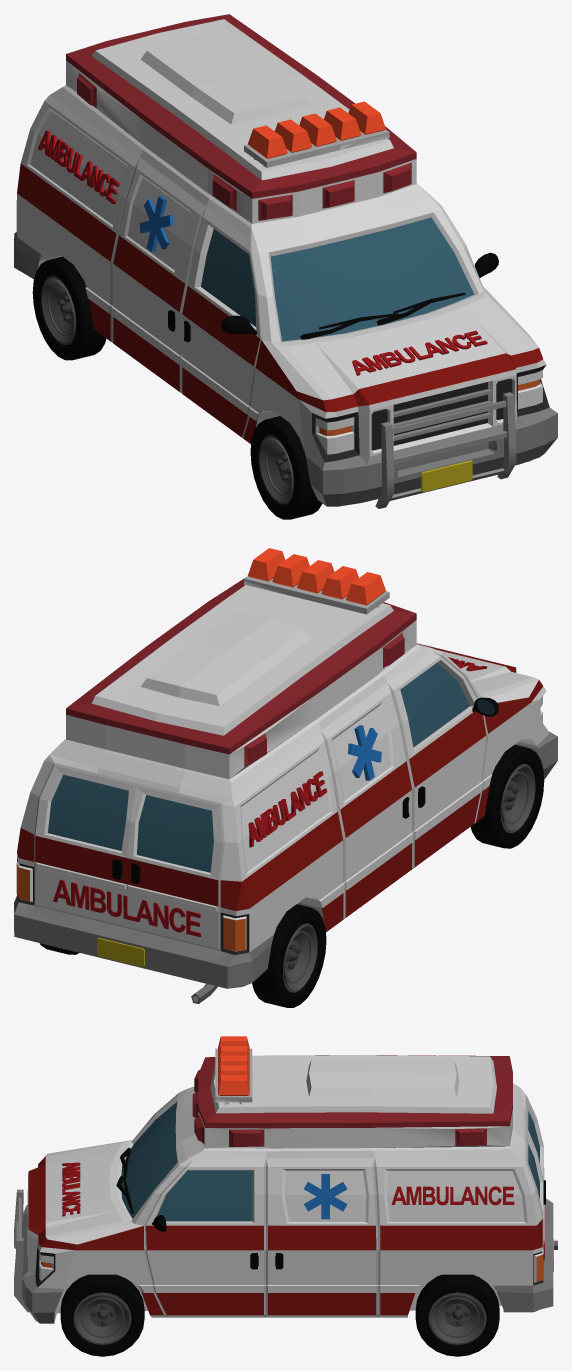
File: Ambulance.fbx
3 renders of one model, top to bottom at view 1: azimuth 30°, elevation 25°; view 2: azimuth 150°, elevation 25°; view 3: azimuth 270°, elevation 25°, orthographic. The views are drawn at different scales.
Visible parts, largest first — view 1: Main, Top, Glass, Bumper, Grills, Wheel 4, Wheel 2, Text.001, Text.002, Blue, Plates, Wiper (+1 smaller); view 2: Main, Top, Glass, Bumper, Wheel 4, Wheel 2, Text.003, Text.001, Blue, Plates; view 3: Main, Top, Glass, Wheel 3, Wheel 1, Bumper, Text, Blue, Grills, Text.002.
Boxes of the visible parts, x1,y1,x2,y2 form: Main: (16, 85, 549, 462); Top: (66, 14, 416, 223); Glass: (201, 217, 474, 341); Bumper: (14, 232, 557, 506); Grills: (375, 389, 516, 508); Wheel 4: (32, 256, 106, 360); Wheel 2: (250, 416, 322, 519); Text.001: (37, 130, 119, 203); Text.002: (352, 330, 487, 375); Blue: (139, 196, 173, 251); Plates: (421, 460, 472, 492); Wiper: (300, 292, 465, 339); Main: (16, 643, 549, 954); Top: (66, 548, 416, 779); Glass: (48, 663, 469, 872); Bumper: (14, 731, 557, 988); Wheel 4: (252, 904, 326, 1007); Wheel 2: (470, 744, 544, 848); Text.003: (53, 879, 200, 936); Text.001: (248, 771, 327, 847); Blue: (348, 725, 381, 780); Plates: (97, 937, 144, 967); Main: (27, 1083, 545, 1322); Top: (192, 1036, 512, 1148); Glass: (121, 1102, 539, 1221); Wheel 3: (415, 1274, 499, 1356); Wheel 1: (60, 1274, 144, 1356); Bumper: (22, 1198, 553, 1323); Text: (391, 1186, 514, 1205); Blue: (304, 1174, 347, 1219); Grills: (14, 1189, 29, 1312); Text.002: (62, 1162, 80, 1216).
Bounding box in the file's own units: 294 × 312 × 614.
